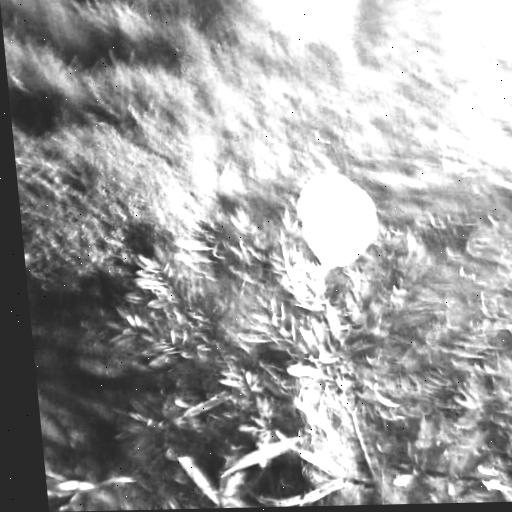balloon: (293, 174, 383, 271)
